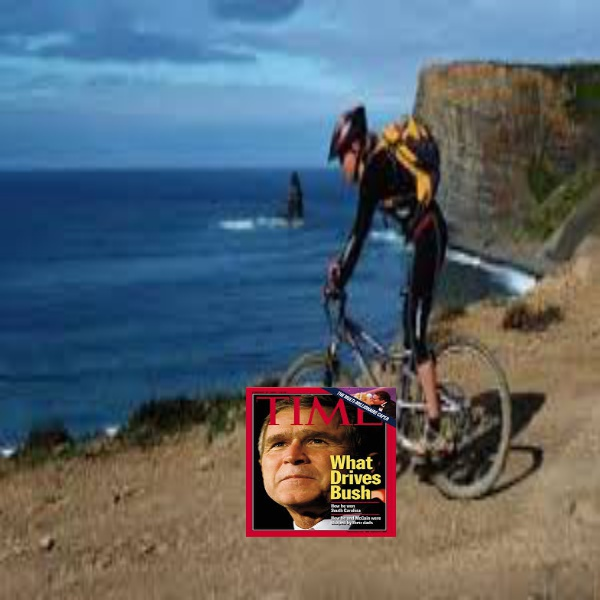time_cover: (244, 384, 393, 537)
